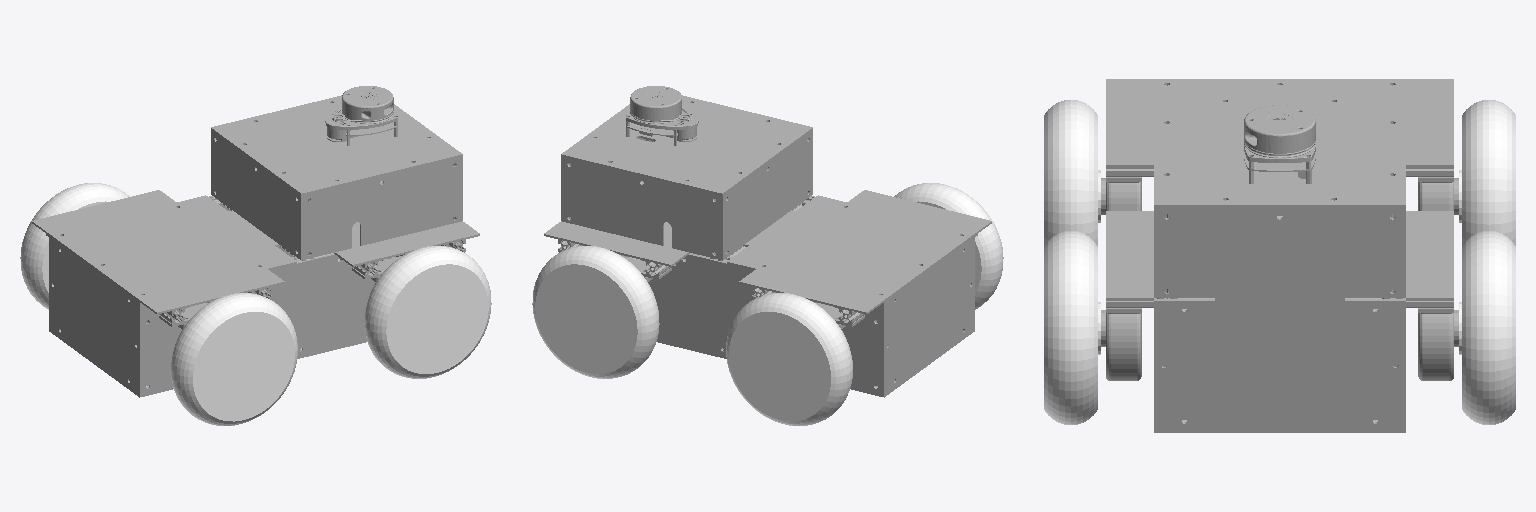
robot.urdf — pf_description:
<robot
  name="pf_description">
  <link
    name="base_link">
    <inertial>
      <origin
        xyz="0.0163800057609369 -4.06842607302539E-06 0.123213166422444"
        rpy="0 0 0" />
      <mass
        value="4.28547466433498" />
      <inertia
        ixx="0.0785677617353809"
        ixy="-2.9016419671321E-06"
        ixz="0.00880098589117479"
        iyy="0.131430039367021"
        iyz="-2.79291610866049E-06"
        izz="0.170626119167957" />
    </inertial>
    <visual>
      <origin
        xyz="0 0 0"
        rpy="0 0 0" />
      <geometry>
        <mesh
          filename="package://pf_description/meshes/base_link.STL" />
      </geometry>
      <material
        name="">
        <color
          rgba="0.752941176470588 0.752941176470588 0.752941176470588 1" />
      </material>
    </visual>
    <collision>
      <origin
        xyz="0 0 0"
        rpy="0 0 0" />
      <geometry>
        <mesh
          filename="package://pf_description/meshes/base_link.STL" />
      </geometry>
    </collision>
  </link>
  <link
    name="front_left_wheel_link">
    <inertial>
      <origin
        xyz="0.0645845783403295 0 1.38777878078145E-17"
        rpy="0 0 0" />
      <mass
        value="1.34458504328816" />
      <inertia
        ixx="0.00556891834008019"
        ixy="-1.61193135467668E-19"
        ixz="1.17794337584903E-19"
        iyy="0.00306681058053119"
        iyz="-8.93494629223616E-35"
        izz="0.00306681058053119" />
    </inertial>
    <visual>
      <origin
        xyz="0 0 0"
        rpy="0 0 0" />
      <geometry>
        <mesh
          filename="package://pf_description/meshes/front_left_wheel_link.STL" />
      </geometry>
      <material
        name="">
        <color
          rgba="1 1 1 1" />
      </material>
    </visual>
    <collision>
      <origin
        xyz="0 0 0"
        rpy="0 0 0" />
      <geometry>
	<cylinder length="0.05" radius="0.095" />
      </geometry>
    </collision>
  </link>
  <joint
    name="front_left_wheel"
    type="continuous">
    <origin
      xyz="0.151424577883419 0.1392 0.0946692626906409"
      rpy="3.14159265358979 6.12303176911189E-17 1.5707963267949" />
    <parent
      link="base_link" />
    <child
      link="front_left_wheel_link" />
    <axis
      xyz="1 0 0" />
  </joint>
  <link
    name="front_right_wheel_link">
    <inertial>
      <origin
        xyz="0.0645845783403309 5.55111512312578E-17 -4.30211422042248E-16"
        rpy="0 0 0" />
      <mass
        value="1.34458504328816" />
      <inertia
        ixx="0.00556891834008019"
        ixy="-1.44322493928414E-18"
        ixz="1.73879958609898E-17"
        iyy="0.00306681058053119"
        iyz="9.98588749872954E-33"
        izz="0.00306681058053119" />
    </inertial>
    <visual>
      <origin
        xyz="0 0 0"
        rpy="0 0 0" />
      <geometry>
        <mesh
          filename="package://pf_description/meshes/front_right_wheel_link.STL" />
      </geometry>
      <material
        name="">
        <color
          rgba="1 1 1 1" />
      </material>
    </visual>
    <collision>
      <origin
        xyz="0 0 0"
        rpy="0 0 0" />
      <geometry>
        <mesh
          filename="package://pf_description/meshes/front_right_wheel_link.STL" />
      </geometry>
    </collision>
  </link>
  <joint
    name="front_right_wheel"
    type="continuous">
    <origin
      xyz="0.15142457788342 -0.139199999999998 0.0946692626906405"
      rpy="3.14159265358979 -6.12303176911189E-17 -1.5707963267949" />
    <parent
      link="base_link" />
    <child
      link="front_right_wheel_link" />
    <axis
      xyz="-1 0 0" />
  </joint>
  <link
    name="rear_left_wheel_link">
    <inertial>
      <origin
        xyz="0.0645845783403295 0 0"
        rpy="0 0 0" />
      <mass
        value="1.34458504328816" />
      <inertia
        ixx="0.00556891834008019"
        ixy="-1.61182539813231E-19"
        ixz="-9.91485339660147E-21"
        iyy="0.00306681058053119"
        iyz="8.31360473337875E-35"
        izz="0.00306681058053119" />
    </inertial>
    <visual>
      <origin
        xyz="0 0 0"
        rpy="0 0 0" />
      <geometry>
        <mesh
          filename="package://pf_description/meshes/rear_left_wheel_link.STL" />
      </geometry>
      <material
        name="">
        <color
          rgba="1 1 1 1" />
      </material>
    </visual>
    <collision>
      <origin
        xyz="0 0 0"
        rpy="0 0 0" />
      <geometry>
        <mesh
          filename="package://pf_description/meshes/rear_left_wheel_link.STL" />
      </geometry>
    </collision>
  </link>
  <joint
    name="rear_left_wheel"
    type="continuous">
    <origin
      xyz="-0.15157542211658 0.1392 0.0946692626906423"
      rpy="3.14159265358979 6.12303176911189E-17 1.5707963267949" />
    <parent
      link="base_link" />
    <child
      link="rear_left_wheel_link" />
    <axis
      xyz="1 0 0" />
  </joint>
  <link
    name="rear_right_wheel_link">
    <inertial>
      <origin
        xyz="0.0645845783403308 5.55111512312578E-17 -4.30211422042248E-16"
        rpy="0 0 0" />
      <mass
        value="1.34458504328816" />
      <inertia
        ixx="0.00556891834008019"
        ixy="-1.92357574458696E-18"
        ixz="1.71626082329745E-17"
        iyy="0.00306681058053119"
        iyz="1.30685870267575E-32"
        izz="0.00306681058053119" />
    </inertial>
    <visual>
      <origin
        xyz="0 0 0"
        rpy="0 0 0" />
      <geometry>
        <mesh
          filename="package://pf_description/meshes/rear_right_wheel_link.STL" />
      </geometry>
      <material
        name="">
        <color
          rgba="1 1 1 1" />
      </material>
    </visual>
    <collision>
      <origin
        xyz="0 0 0"
        rpy="0 0 0" />
      <geometry>
        <mesh
          filename="package://pf_description/meshes/rear_right_wheel_link.STL" />
      </geometry>
    </collision>
  </link>
  <joint
    name="rear_right_wheel"
    type="continuous">
    <origin
      xyz="-0.15157542211658 -0.139199999999997 0.0946692626906433"
      rpy="3.14159265358979 -6.12303176911189E-17 -1.5707963267949" />
    <parent
      link="base_link" />
    <child
      link="rear_right_wheel_link" />
    <axis
      xyz="-1 0 0" />
  </joint>
  <link
    name="laser">
    <inertial>
      <origin
        xyz="0.012884 0.00113 -0.013995"
        rpy="0 0 0" />
      <mass
        value="0.078385" />
      <inertia
        ixx="3.5328E-05"
        ixy="-1.1835E-06"
        ixz="-9.6166E-06"
        iyy="6.6075E-05"
        iyz="1.7088E-06"
        izz="7.775E-05" />
    </inertial>
    <visual>
      <origin
        xyz="0 0 0"
        rpy="0 0 0" />
      <geometry>
        <mesh
          filename="package://pf_description/meshes/laser.STL" />
      </geometry>
      <material
        name="">
        <color
          rgba="0.75294 0.75294 0.75294 1" />
      </material>
    </visual>
    <collision>
      <origin
        xyz="0 0 0"
        rpy="0 0 0" />
      <geometry>
        <mesh
          filename="package://pf_description/meshes/laser.STL" />
      </geometry>
    </collision>
  </link>
  <joint
    name="laser_joint"
    type="fixed">
    <origin
      xyz="0.17492 0 0.31627"
      rpy="-5.4899E-15 0 3.1416" />
    <parent
      link="base_link" />
    <child
      link="laser" />
    <axis
      xyz="0 0 0" />
  </joint>

  <link name="imu_link">
    <inertial>
      <mass value="0.001"/>
      <origin xyz="0 0 0" rpy="0 0 0"/>
      <inertia ixx="1e-09" ixy="0.0" ixz="0.0" iyy="1e-09" iyz="0.0" izz="1e-09"/>
    </inertial>
  </link>
  <joint name="imu_joint" type="fixed">
    <parent link="base_link" />
    <child link="imu_link" />
  </joint>

</robot>

--- Render facts (derived) ---
3 views of the same robot in one strip: view 1: azimuth 30°, elevation 25°; view 2: azimuth 150°, elevation 25°; view 3: azimuth 270°, elevation 25° (orthographic).
Robot: pf_description — 7 links, 6 joints (4 continuous, 2 fixed); root link base_link; default pose: all joints at 0.
Links seen in each view (by area): view 1: base_link, rear_right_wheel_link, front_right_wheel_link, rear_left_wheel_link, laser; view 2: base_link, rear_left_wheel_link, front_left_wheel_link, rear_right_wheel_link, laser; view 3: base_link, front_left_wheel_link, front_right_wheel_link, rear_left_wheel_link, rear_right_wheel_link, laser.
Link boxes in pixels (x1,y1,x2,y2): base_link: (32, 95, 479, 397); rear_right_wheel_link: (171, 293, 297, 425); front_right_wheel_link: (364, 246, 491, 378); rear_left_wheel_link: (20, 183, 129, 309); laser: (325, 86, 397, 145); base_link: (544, 95, 991, 397); rear_left_wheel_link: (726, 293, 852, 425); front_left_wheel_link: (532, 246, 659, 378); rear_right_wheel_link: (894, 183, 1003, 309); laser: (626, 86, 698, 145); base_link: (1101, 79, 1458, 432); front_left_wheel_link: (1459, 231, 1515, 424); front_right_wheel_link: (1044, 231, 1100, 424); rear_left_wheel_link: (1459, 100, 1515, 245); rear_right_wheel_link: (1044, 100, 1100, 245); laser: (1244, 105, 1315, 183).
Bounding box of the posed robot: 0.506 × 0.4596 × 0.3305 m (x, y, z).
Meshes: 6 distinct files referenced, 6 mesh visuals loaded (6 binary STL).
